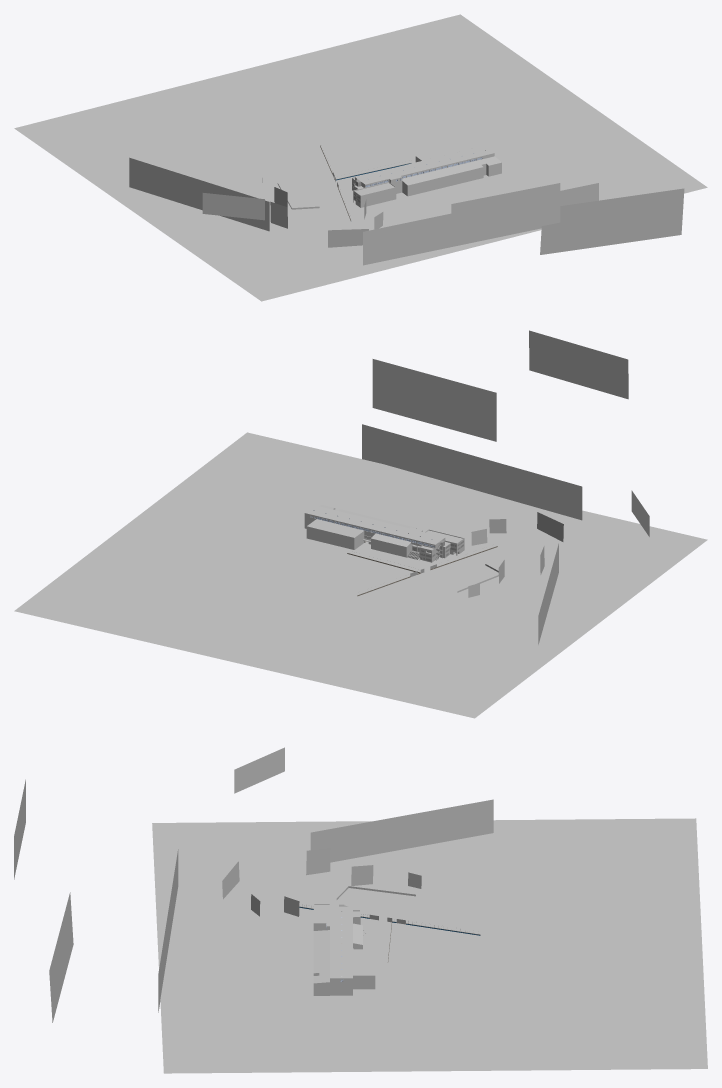
The model's file is Edificio Collider.fbx.
3 views of the same model, one above another, from view 1: azimuth 30°, elevation 25°; view 2: azimuth 150°, elevation 25°; view 3: azimuth 270°, elevation 25° (orthographic). The views are drawn at different scales.
Parts seen in each view (by area): view 1: SueloPlano; view 2: SueloPlano; view 3: SueloPlano.
Part boxes in pixels (x1,y1,x2,y2): SueloPlano: (14, 14, 707, 301); SueloPlano: (14, 330, 707, 718); SueloPlano: (14, 747, 707, 1073).
Bounding box in the file's own units: 38855 × 8784 × 44676.
